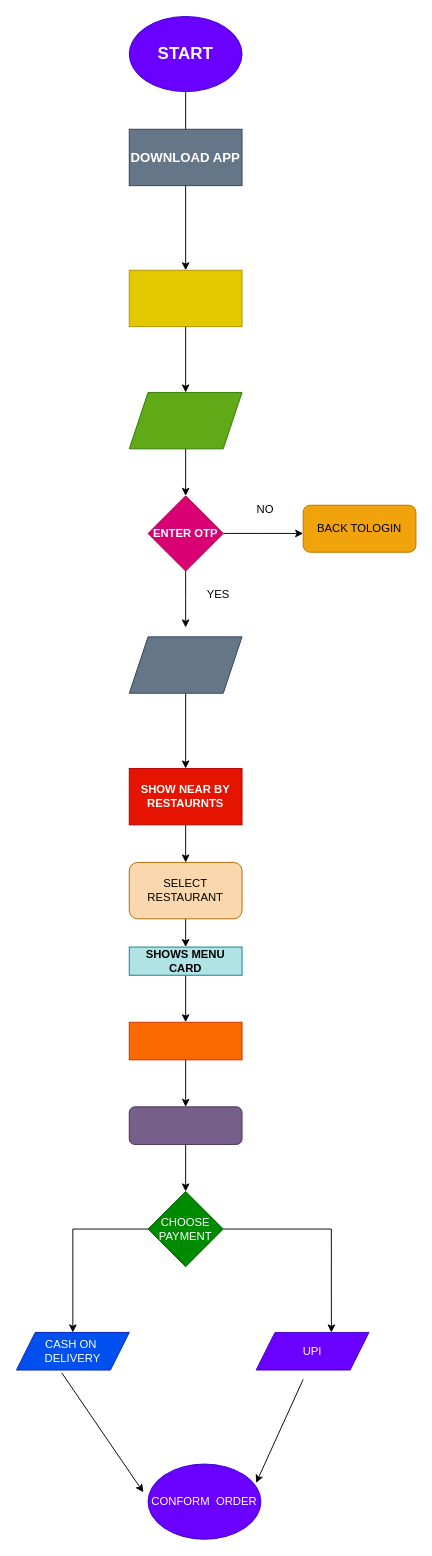
Some shapes in this 432 by 1556 pixel diagram are drawn without their labels. The shapes that lost their labels are listed below. From the top down, each one's box as (x1, y1, x2, y2) in pixels, then its label:
(128, 269, 242, 327): SIGNUP/LOGIN
(128, 392, 242, 449): ENTER MOBILE NUMBER
(128, 636, 242, 693): ENTER ADDRESS
(128, 1021, 242, 1060): ADD TO CART
(128, 1106, 242, 1144): CLICK ON PLACE ORDER
